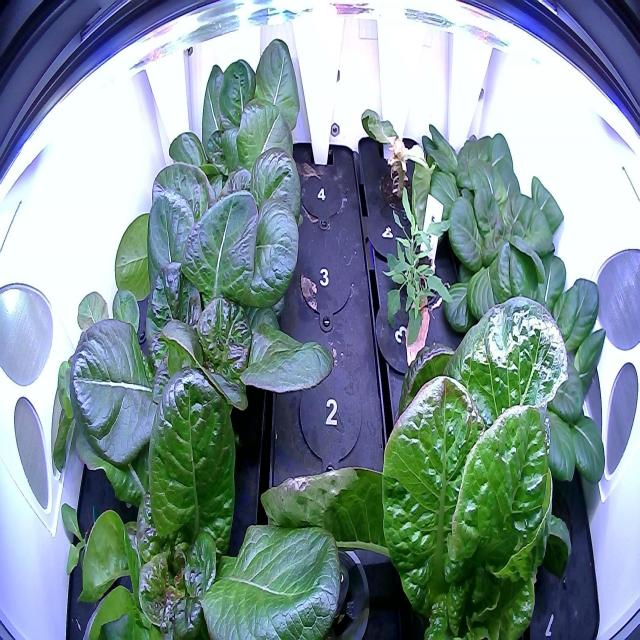empty_pod: (292, 346, 367, 474), (294, 227, 356, 329), (292, 154, 350, 233)
young: (59, 172, 339, 492), (61, 358, 350, 636), (426, 242, 617, 510), (109, 92, 315, 305), (161, 21, 306, 196), (432, 166, 569, 323), (408, 103, 528, 230)
